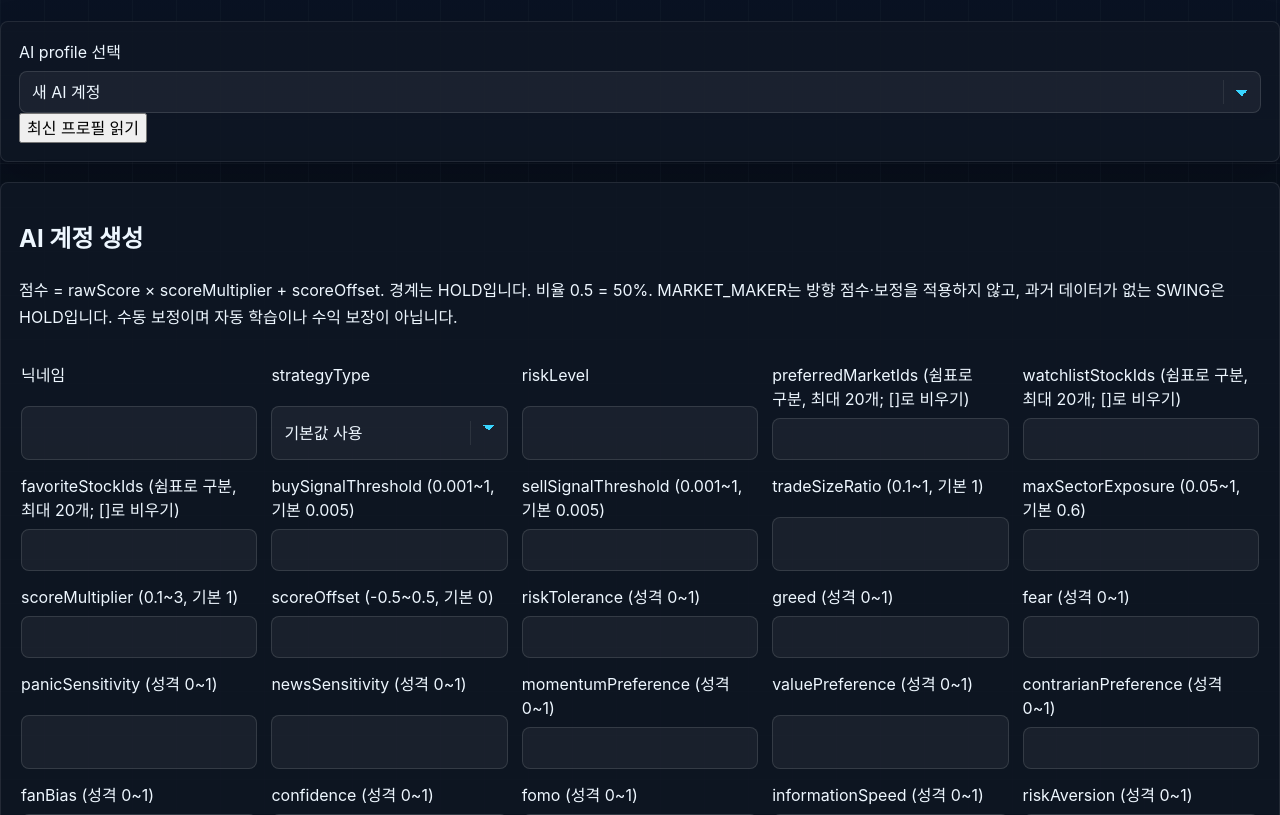
keeps a cold SWING HOLD and server raw/calibrated scores unchanged
The image size is (1280, 815).
Select "계정 A · MOMENTUM" in the dropdown labelled "AI profile 선택" at (640, 92), box top-left (19, 71), bottom-right (1261, 113)
(page scrolled)
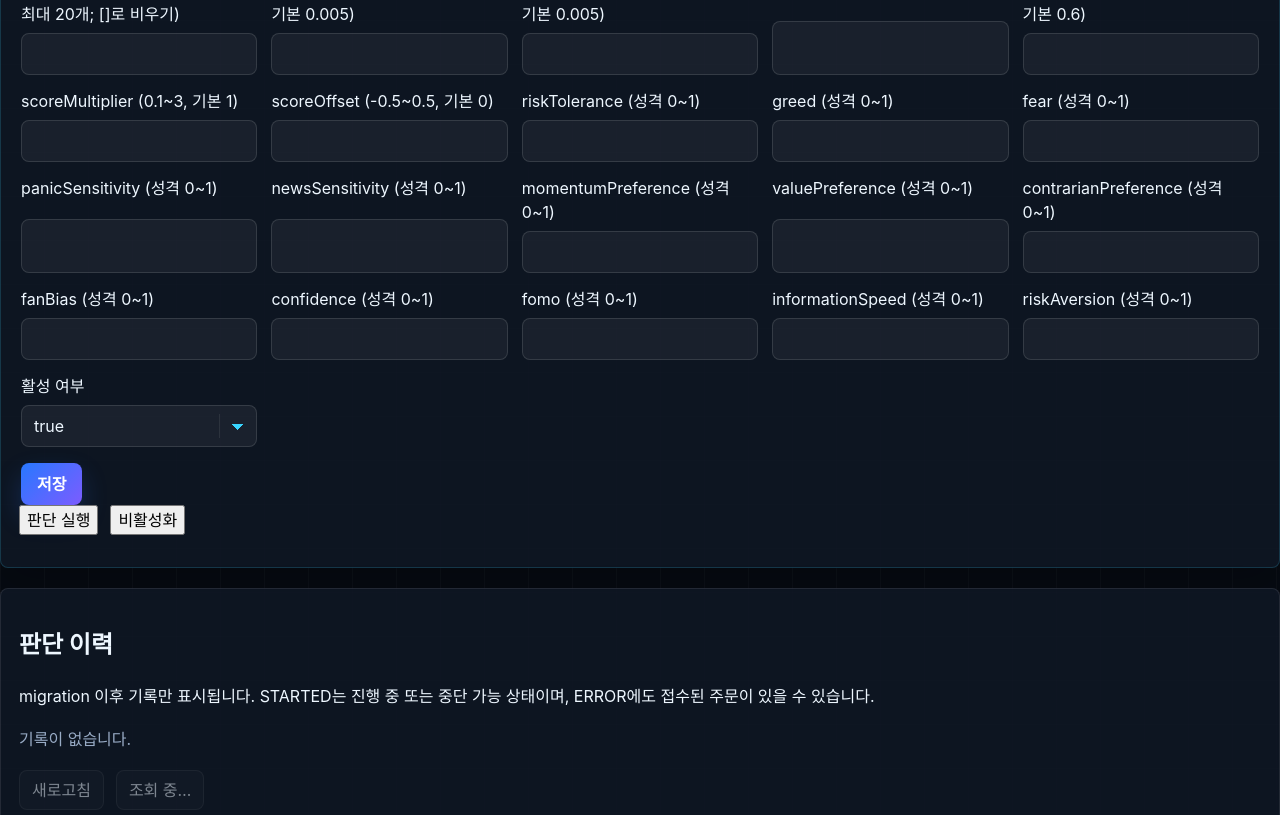
Click the button "판단 실행" at (59, 520), box top-left (19, 505), bottom-right (98, 535)
(page scrolled)
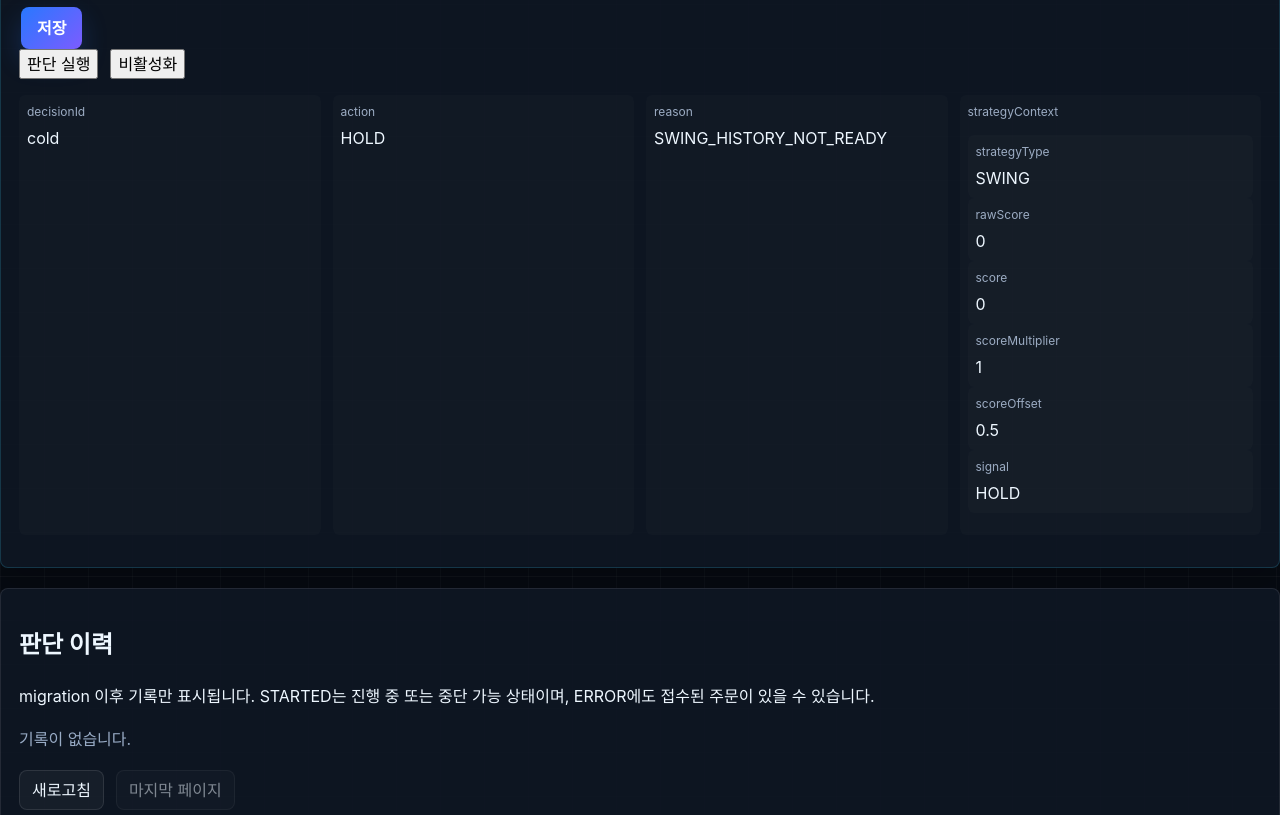
Check: the text "SWING_HISTORY_NOT_READY" is shown, box top-left (654, 128), bottom-right (887, 148)
Check: the 1st element showing "0" is shown, box top-left (976, 231), bottom-right (986, 251)
Check: the element showing "0.5" is shown, box top-left (976, 420), bottom-right (999, 440)
